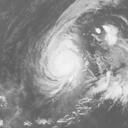cyclone: (38, 31, 87, 93)
